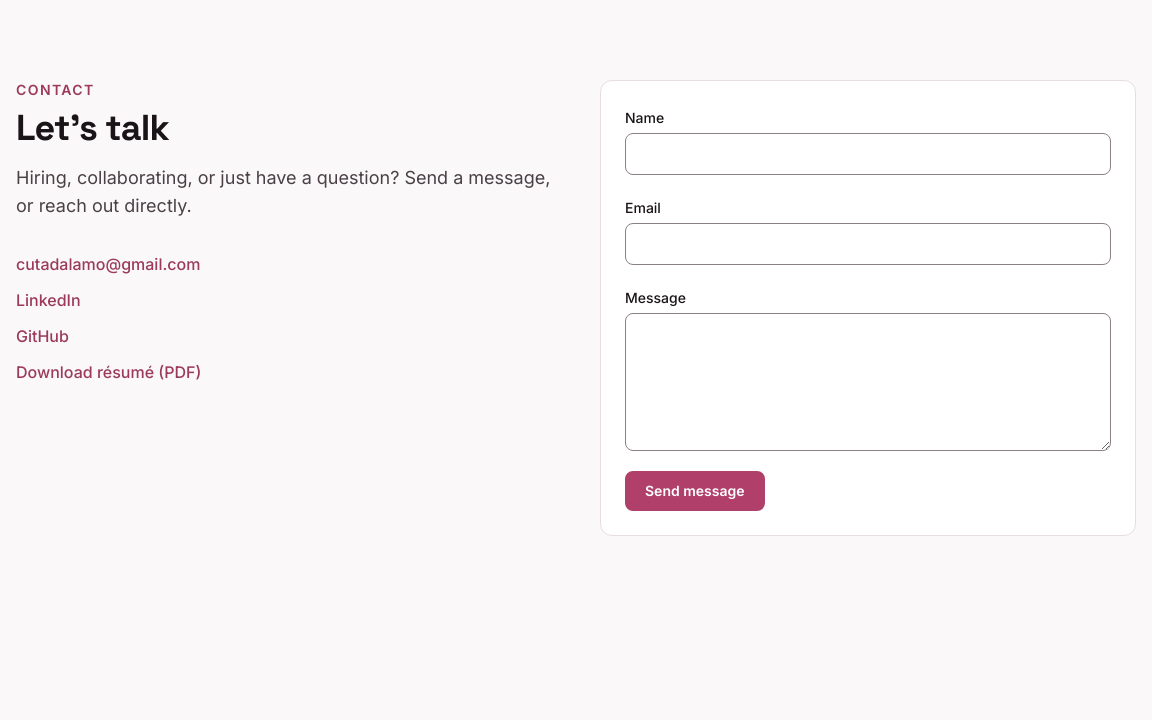
Test: Contact form › falls back to a prefilled mailto: link when email sending is not configured
The image size is (1152, 720).
Type "Jane Recruiter" into the field labelled "Name" at [868, 154], box [625,133,1111,175]
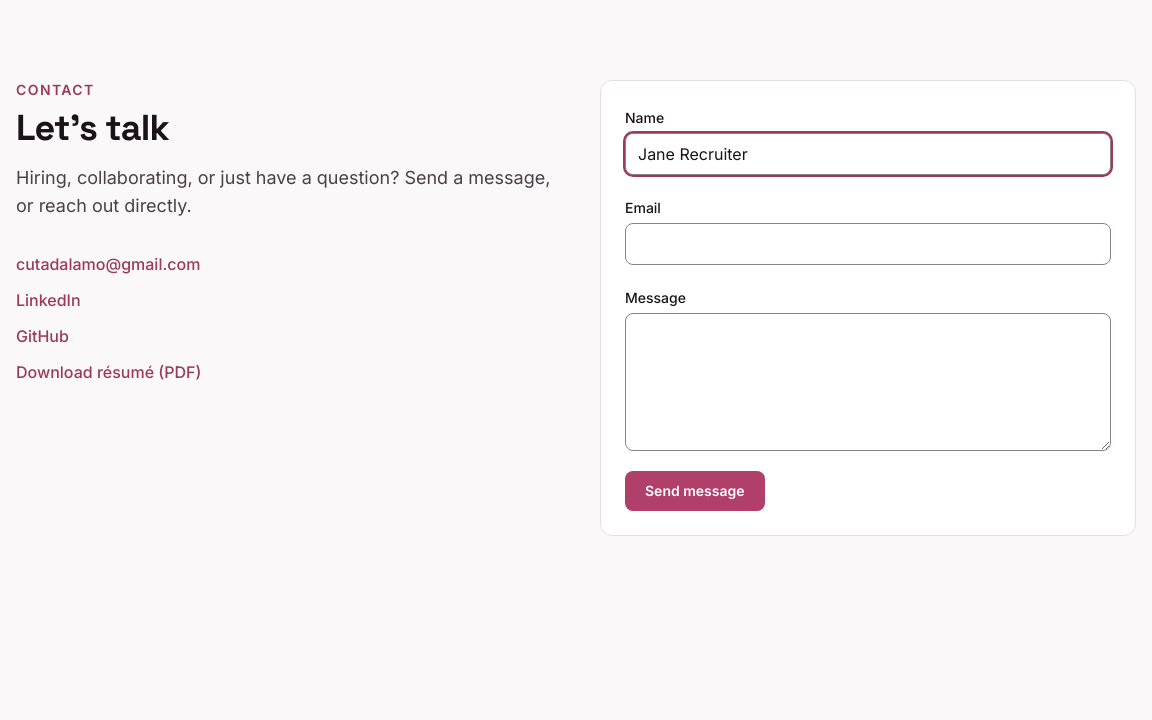
Type "jane@example.com" into the field labelled "Email" at [868, 244], box [625,223,1111,265]
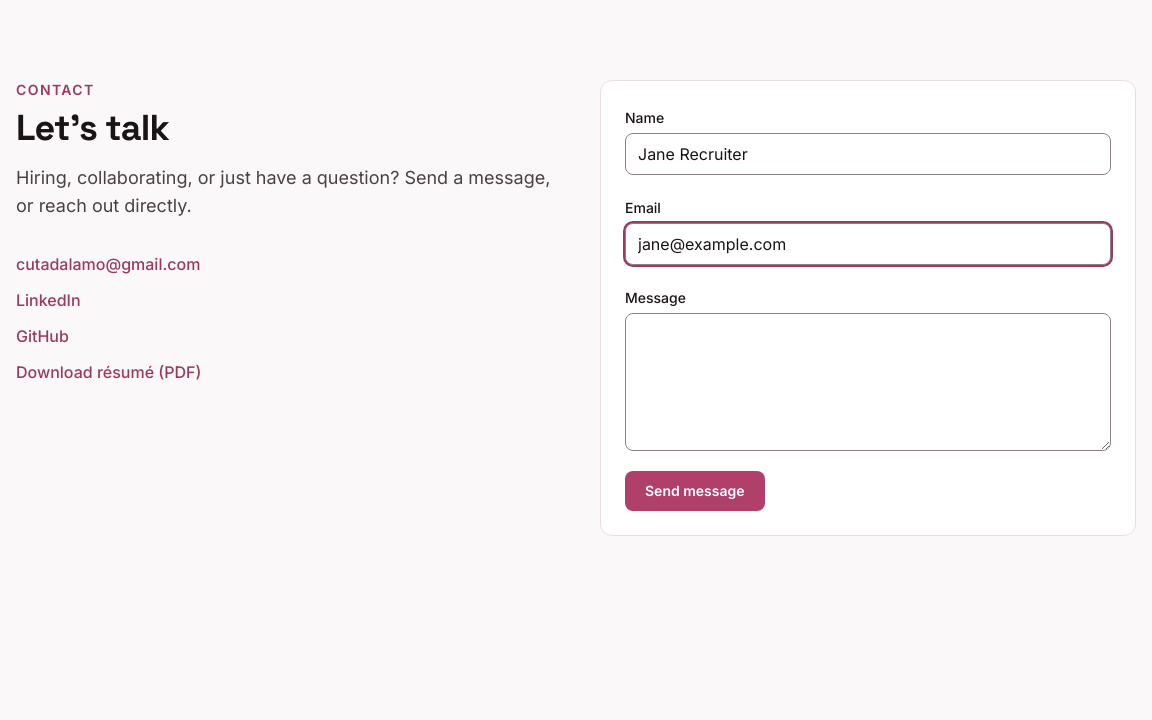
Type "We would like to talk about a role." into the text box labelled "Message" at [868, 382], box [625,313,1111,451]
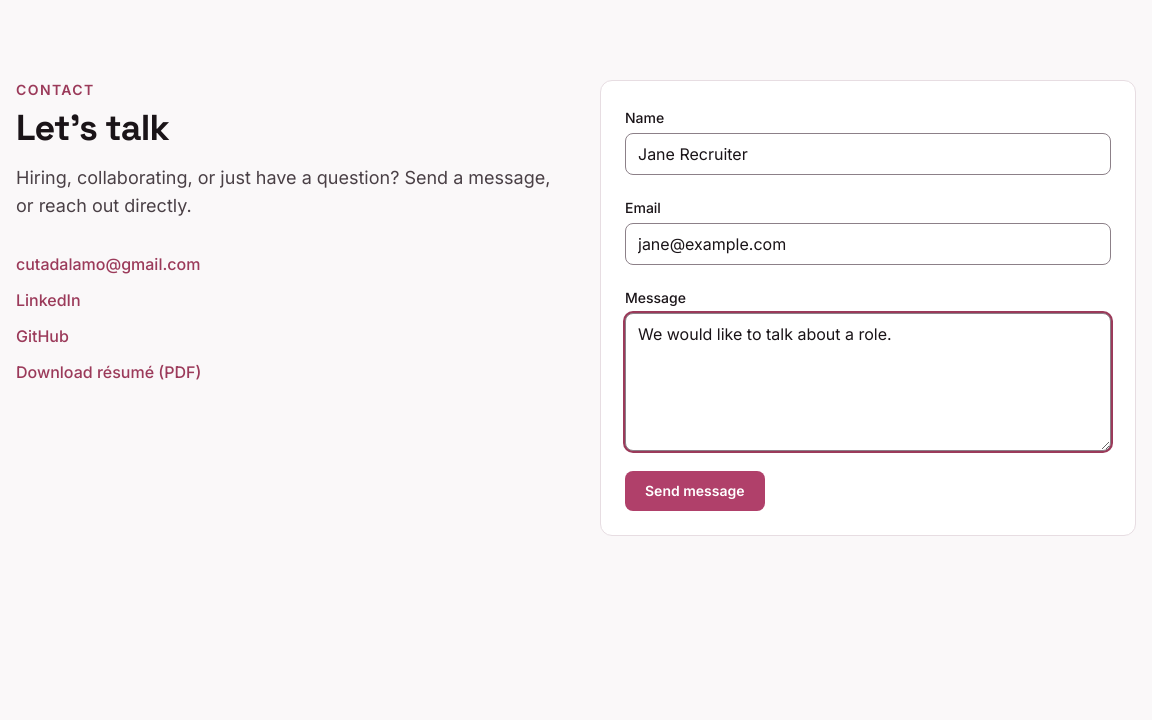
Click the button "Send message" at [695, 491], box [625,471,765,511]
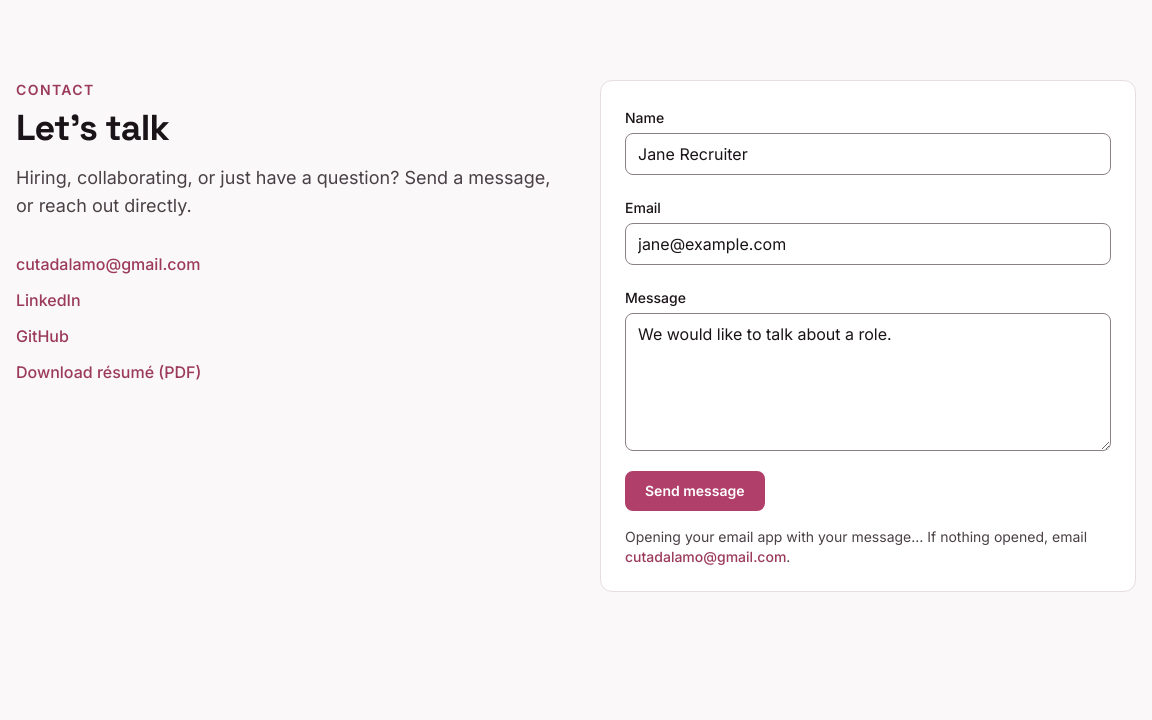
Now the message shows "Opening your email app", box [625,528,923,545]
